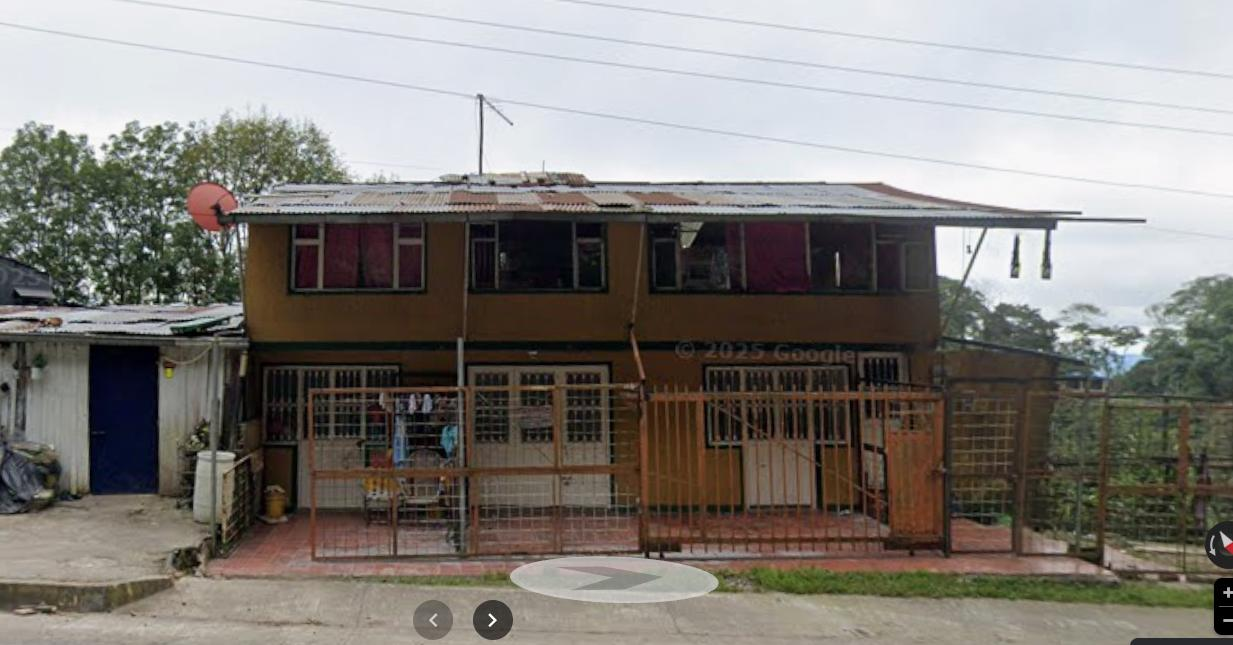casa: (224, 173, 1064, 572), (0, 305, 257, 521)
